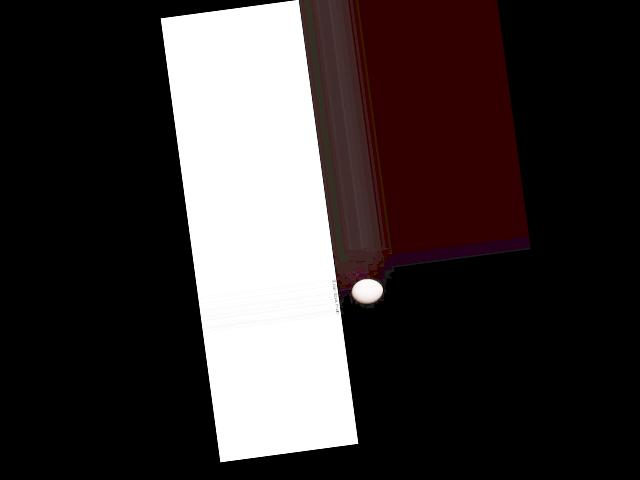egg: (349, 277, 384, 305)
